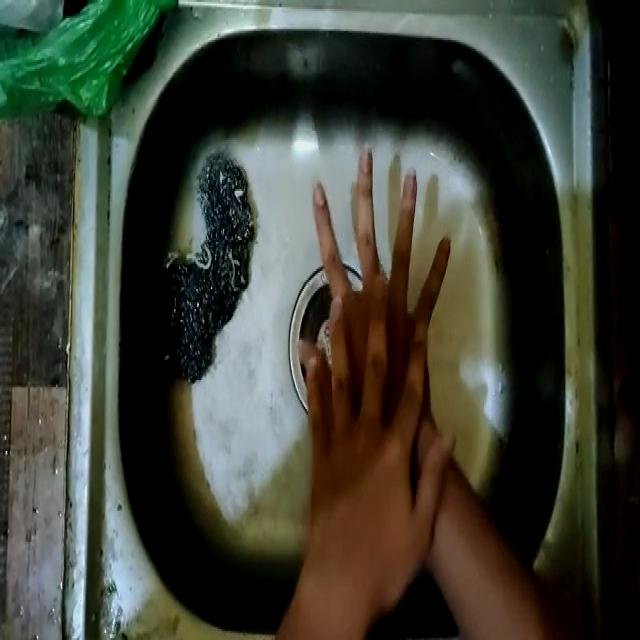step_2: (285, 146, 459, 456)
